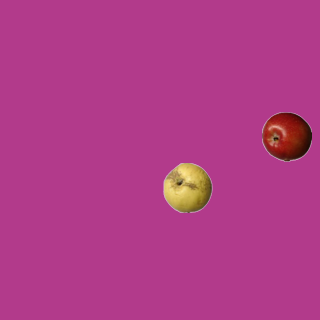Apple Braeburn: (261, 111, 311, 161)
Apple Golden 1: (162, 162, 212, 212)
